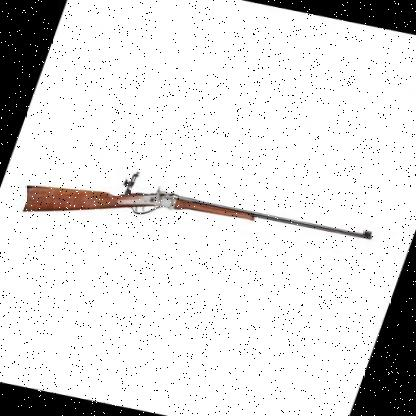rifle: (11, 150, 383, 284)
